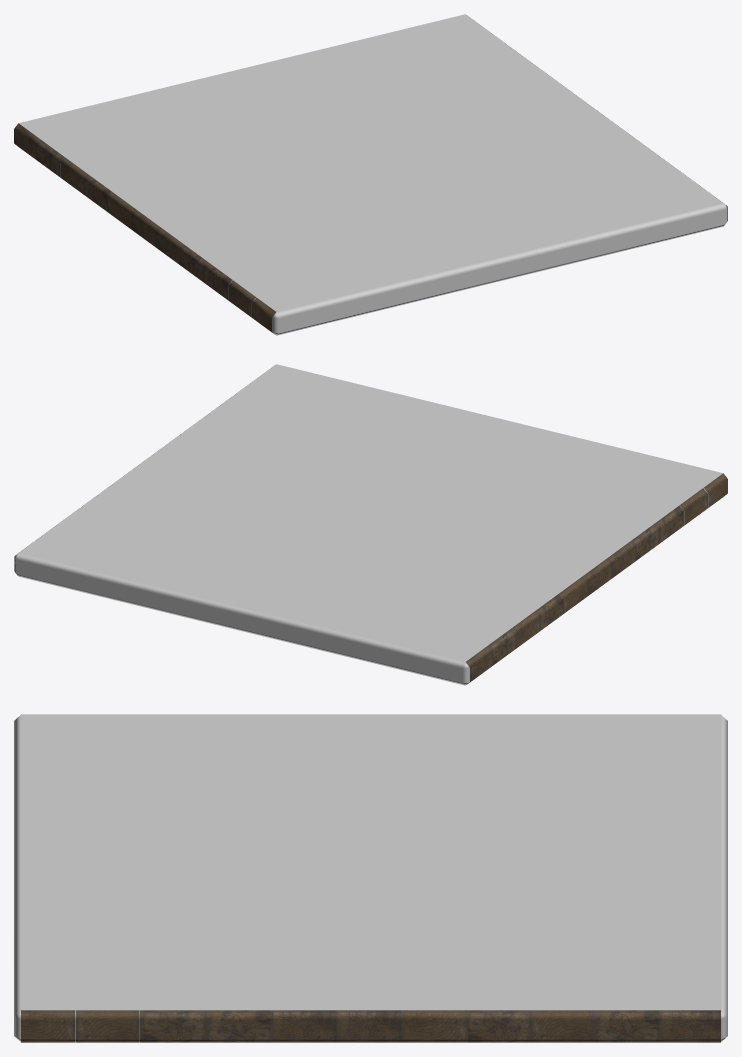
Rendered from SM_Floor_b_300x300x15_01.fbx.
3 views of the same model, one above another, from view 1: azimuth 30°, elevation 25°; view 2: azimuth 150°, elevation 25°; view 3: azimuth 270°, elevation 25° (orthographic). The views are drawn at different scales.
Visible parts, largest first — view 1: SM_Floor_b_300x300x15_01_LOD0; view 2: SM_Floor_b_300x300x15_01_LOD0; view 3: SM_Floor_b_300x300x15_01_LOD0.
Boxes of the visible parts, left/top/right/bottom form: SM_Floor_b_300x300x15_01_LOD0: left=14, top=14, right=727, bottom=335; SM_Floor_b_300x300x15_01_LOD0: left=14, top=364, right=727, bottom=685; SM_Floor_b_300x300x15_01_LOD0: left=14, top=714, right=727, bottom=1042.
Bounding box in the file's own units: 300 × 300 × 15.
